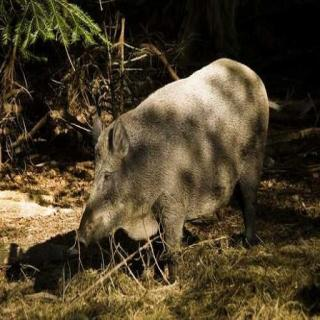Pig: (78, 50, 276, 274)
